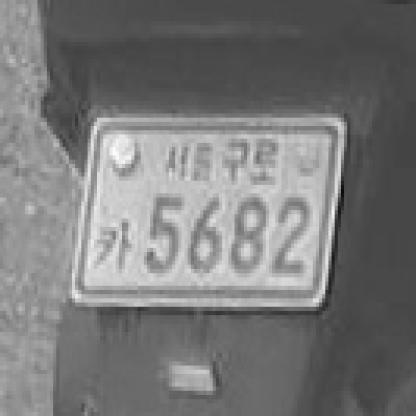bnum: (66, 100, 349, 317)
